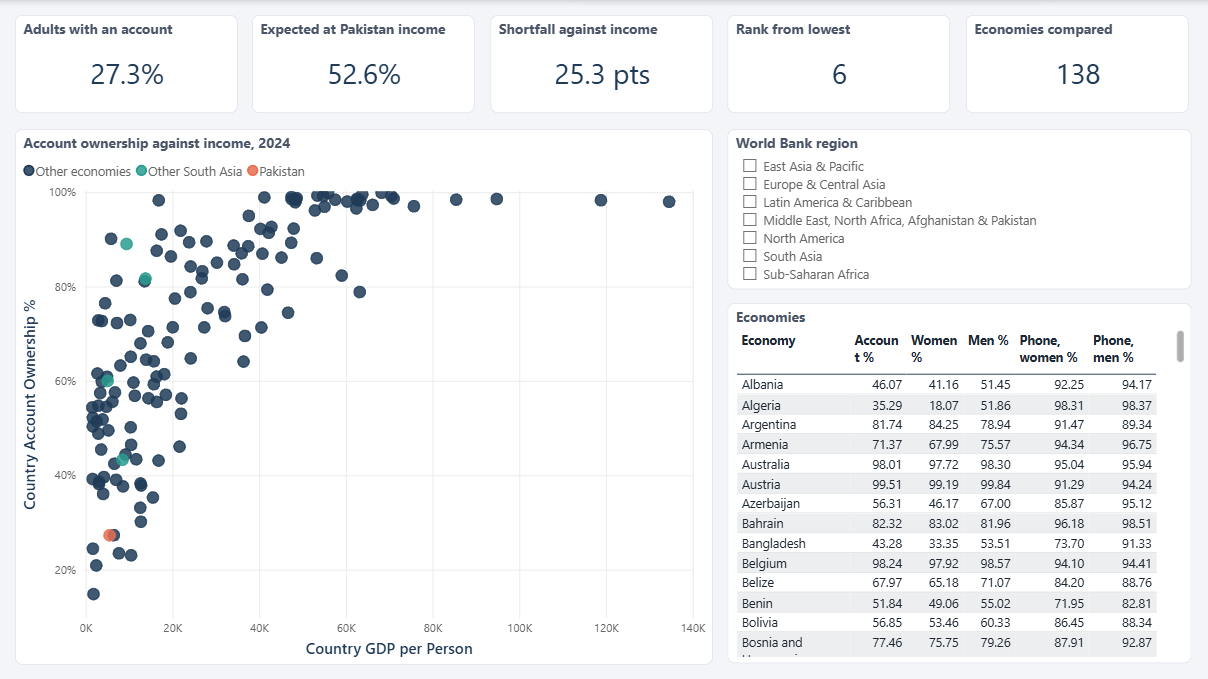

Layout of this report page (visuals, bound fields, positions):
{"tool":"powerbi","page":{"name":"Income benchmark","canvas":[1280,720],"ordinal":7},"visuals":[{"type":"card","title":"Adults with an account","fields":{"Values":["_Measures.Pakistan Account Ownership %"]},"box":[16,16,236,104],"z":0},{"type":"card","title":"Expected at Pakistan income","fields":{"Values":["_Measures.Pakistan Expected Account Ownership %"]},"box":[268,16,236,104],"z":1000},{"type":"card","title":"Shortfall against income","fields":{"Values":["_Measures.Pakistan Account Shortfall vs Income (pts)"]},"box":[520,16,236,104],"z":2000},{"type":"card","title":"Rank from lowest","fields":{"Values":["_Measures.Pakistan Rank From Lowest"]},"box":[772,16,236,104],"z":3000},{"type":"card","title":"Economies compared","fields":{"Values":["_Measures.Economies Compared"]},"box":[1024,16,236,104],"z":4000},{"type":"scatterChart","title":"Account ownership against income, 2024","fields":{"Category":["countries.country_name"],"X":["_Measures.Country GDP per Person"],"Y":["_Measures.Country Account Ownership %"],"Series":["countries.highlight"]},"box":[16,136,740,568],"z":5000},{"type":"slicer","title":"World Bank region","fields":{"Values":["countries.world_region"]},"box":[772,136,492,170],"z":6000},{"type":"tableEx","title":"Economies","fields":{"Values":["countries.country_name","countries.account","countries.account_women","countries.account_men","countries.phone_women","countries.phone_men"]},"box":[772,322,492,382],"z":7000}]}

Visuals, with their boxes in screenshot pixels (x1, y1, x2, y2), scaled from the page's 1280x720 canvas onto the 1208x679 screenshot:
"Adults with an account" card: region(15, 15, 238, 113)
"Expected at Pakistan income" card: region(253, 15, 476, 113)
"Shortfall against income" card: region(491, 15, 713, 113)
"Rank from lowest" card: region(729, 15, 951, 113)
"Economies compared" card: region(966, 15, 1189, 113)
"Account ownership against income, 2024" scatterChart: region(15, 128, 713, 664)
"World Bank region" slicer: region(729, 128, 1193, 289)
"Economies" tableEx: region(729, 304, 1193, 664)
